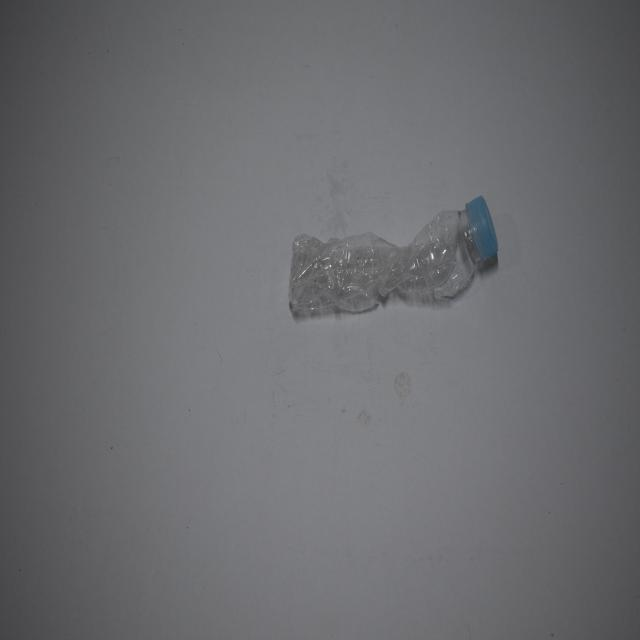bottle: (284, 192, 497, 322)
